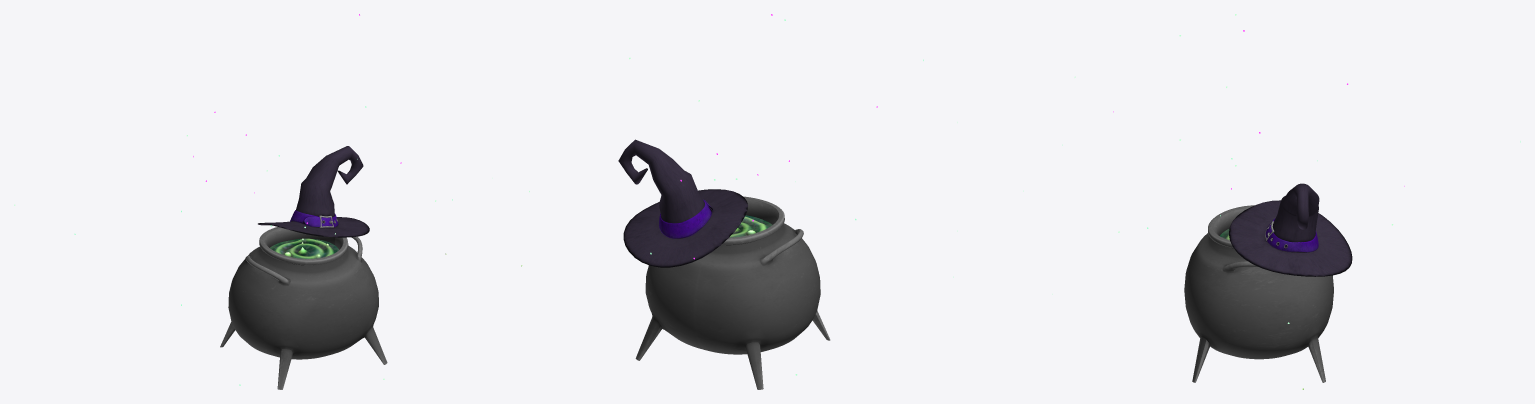
File: witch_potion.glb
3 renders of one model, left to right at view 1: azimuth 30°, elevation 25°; view 2: azimuth 150°, elevation 25°; view 3: azimuth 270°, elevation 25°, orthographic. The views are drawn at different scales.
Visible parts, largest first — view 1: Pot__Pot_0, HAT; view 2: Pot__Pot_0, HAT; view 3: Pot__Pot_0, HAT.
Boxes of the visible parts, x1,y1,x2,y2 form: Pot__Pot_0: (220,227,387,389); HAT: (258,146,369,237); Pot__Pot_0: (635,196,830,389); HAT: (618,139,747,267); Pot__Pot_0: (1184,205,1333,382); HAT: (1229,183,1352,276).
Size of what is drawn, in the model's own units: 318 by 219 by 288.
4 materials, 2 textured.
